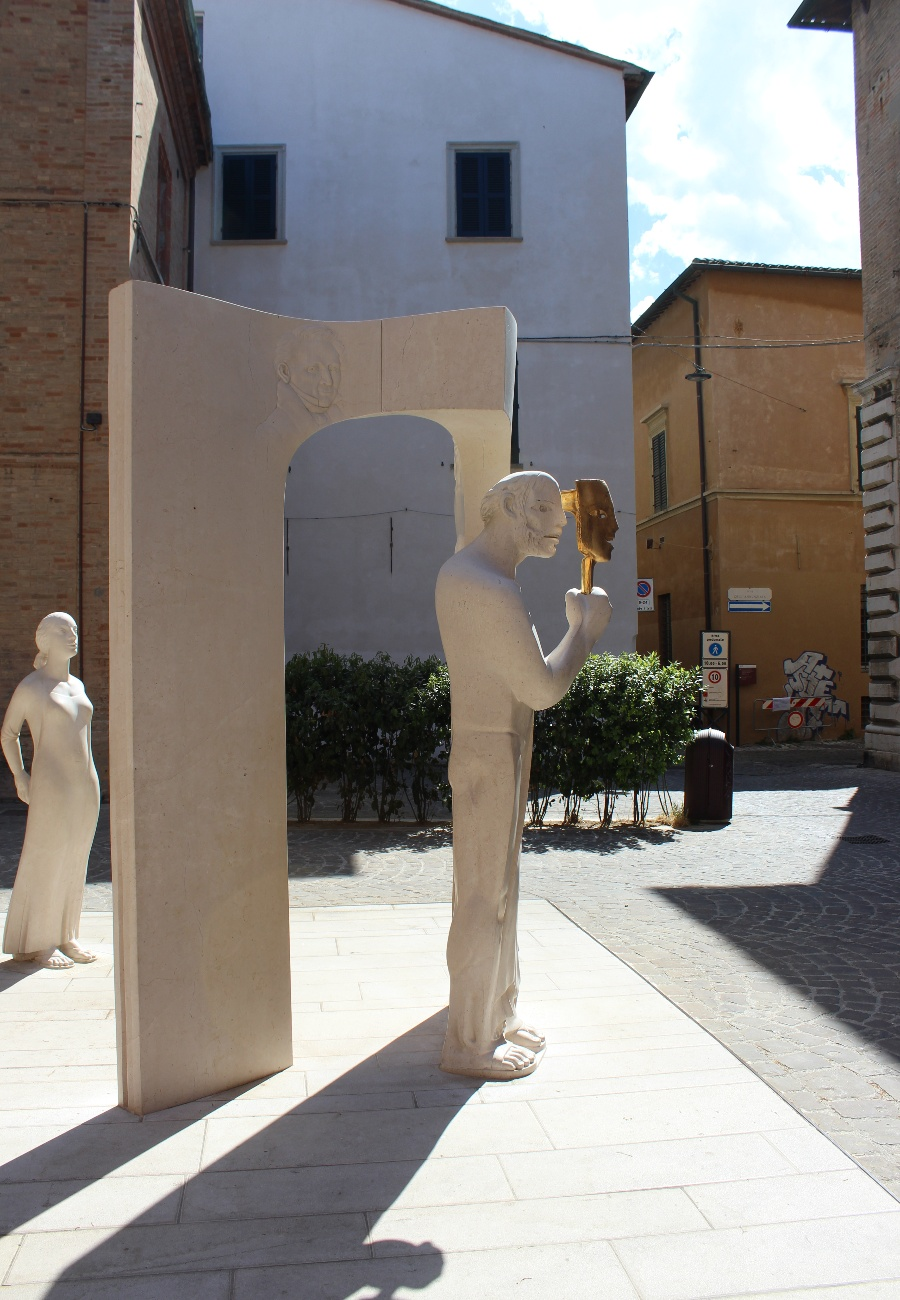Scultura della Memoria: (434, 470, 619, 1087)
